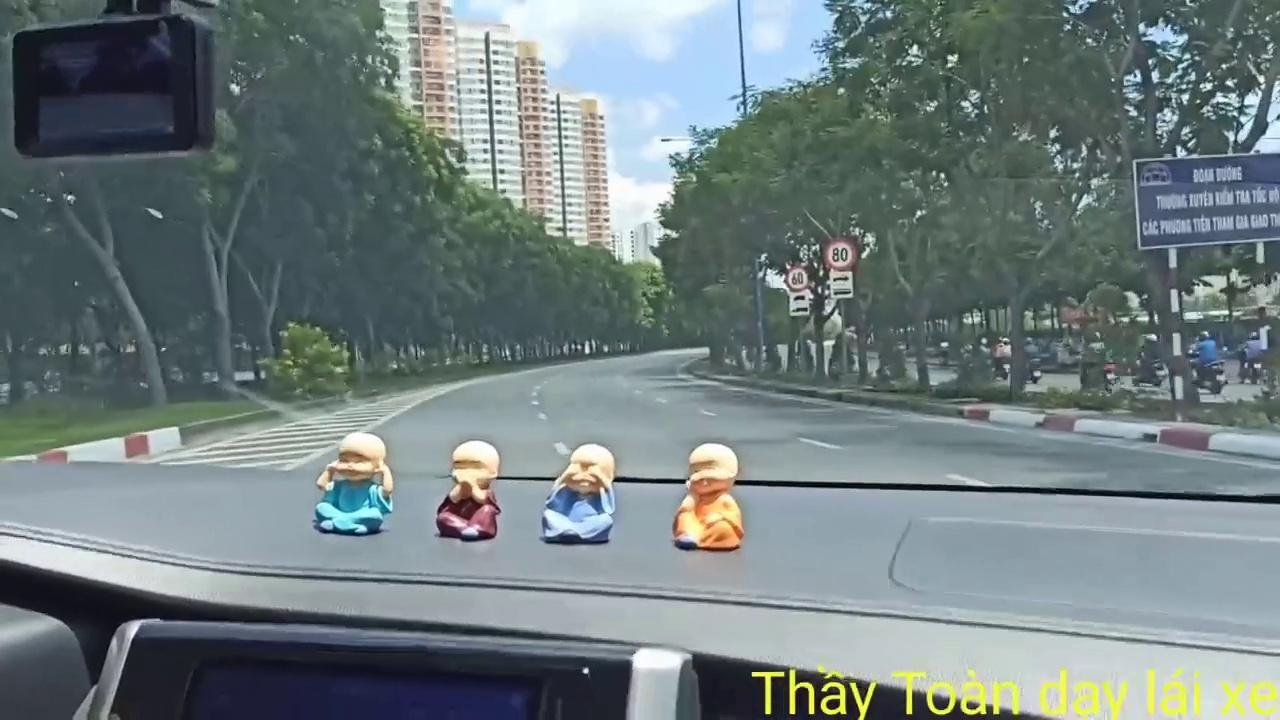Biển phụ: (828, 272, 854, 298), (789, 291, 809, 315)
GIơi hạn tốc độ 60Km/h: (785, 263, 809, 290)
Giới hạn tốc độ 80Km/h: (825, 236, 858, 270)
